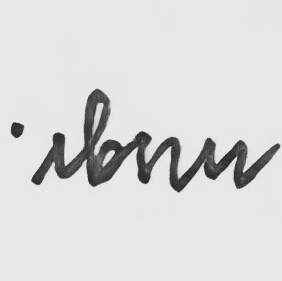i: (8, 120, 69, 187)
n: (81, 87, 125, 188), (131, 127, 184, 191)
u: (201, 134, 251, 193)
